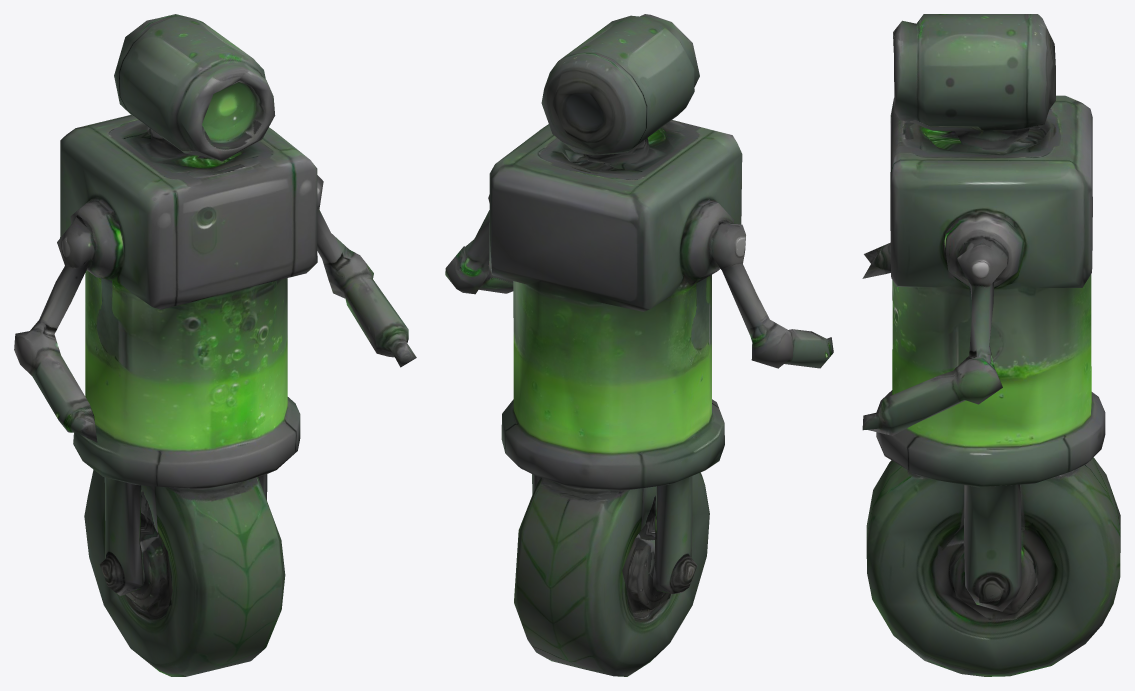
The model's file is EcoBot_Wheeler_0408235423_texture.glb.
3 renders of one model, left to right at view 1: azimuth 30°, elevation 25°; view 2: azimuth 150°, elevation 25°; view 3: azimuth 270°, elevation 25°, orthographic. The views are drawn at different scales.
Parts seen in each view (by area): view 1: Mesh1; view 2: Mesh1; view 3: Mesh1.
Boxes of the visible parts, bbox=[...] form: Mesh1: bbox=[14, 14, 416, 676]; Mesh1: bbox=[445, 14, 833, 676]; Mesh1: bbox=[862, 14, 1120, 676].
Bounding box in the file's own units: 1.16 × 2 × 0.7303.
1 material, 1 textured.
